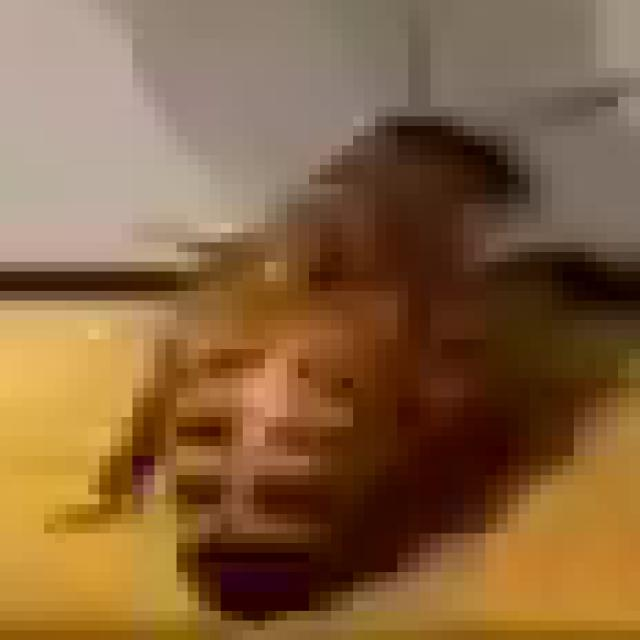honeybee: (110, 100, 524, 610)
